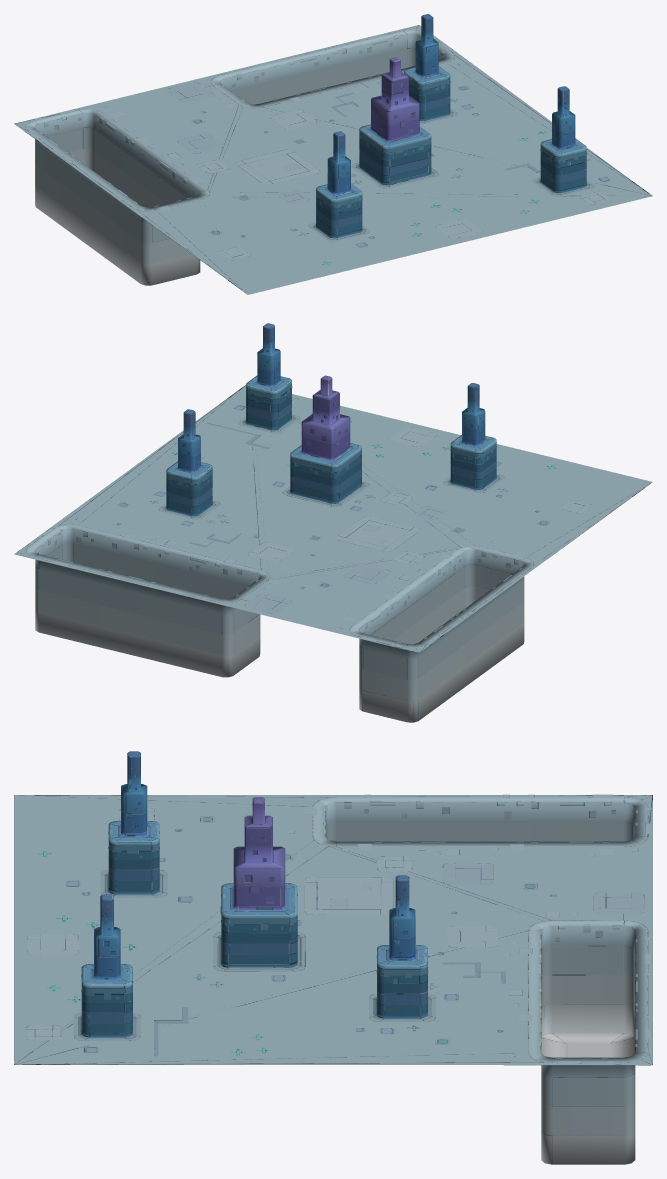
Rendered from C_mountain2_03.fbx.
3 views of the same model, one above another, from view 1: azimuth 30°, elevation 25°; view 2: azimuth 150°, elevation 25°; view 3: azimuth 270°, elevation 25° (orthographic). The views are drawn at different scales.
Parts seen in each view (by area): view 1: C_mountain2_03.002; view 2: C_mountain2_03.002; view 3: C_mountain2_03.002.
Part boxes in pixels (x1,y1,x2,y2): C_mountain2_03.002: (14, 14, 652, 294); C_mountain2_03.002: (14, 323, 652, 722); C_mountain2_03.002: (14, 751, 652, 1164).
Bounding box in the file's own units: 50.03 × 22.52 × 50.
